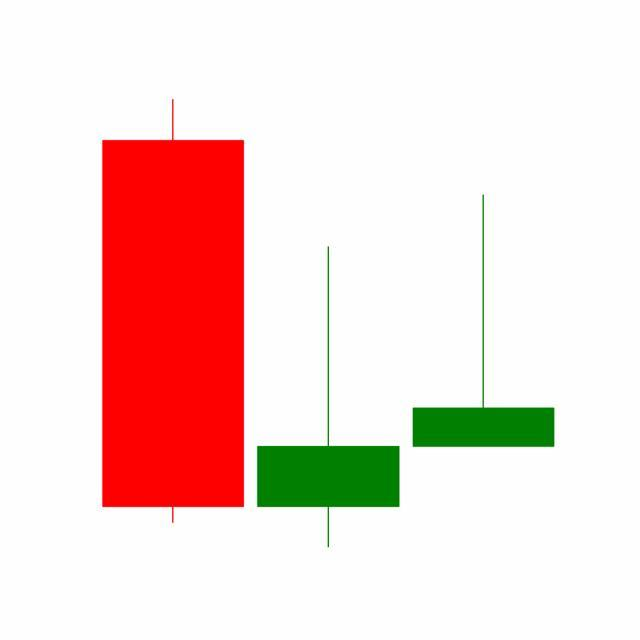Gravestone Doji: (406, 192, 562, 450)
